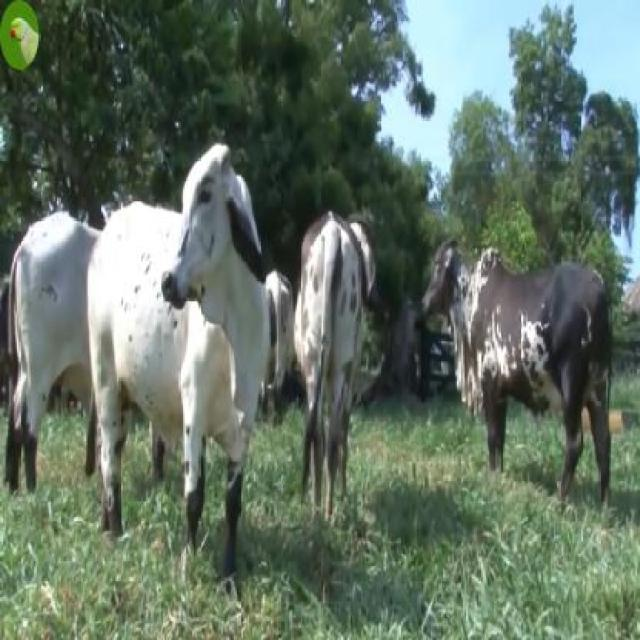Cow: (87, 140, 270, 545)
